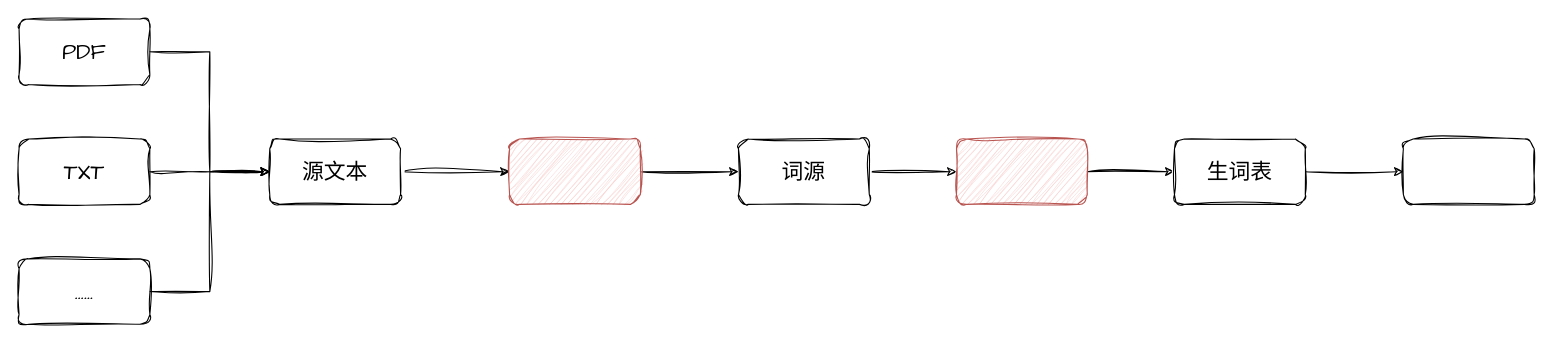
This 1553x343 diagram has some shape labels left out. Each missing label, with the box of its shape:
Stanford CoreNLP: (508, 138, 640, 204)
扇贝单词书: (1402, 138, 1534, 204)
过滤已知词: (955, 138, 1087, 204)
